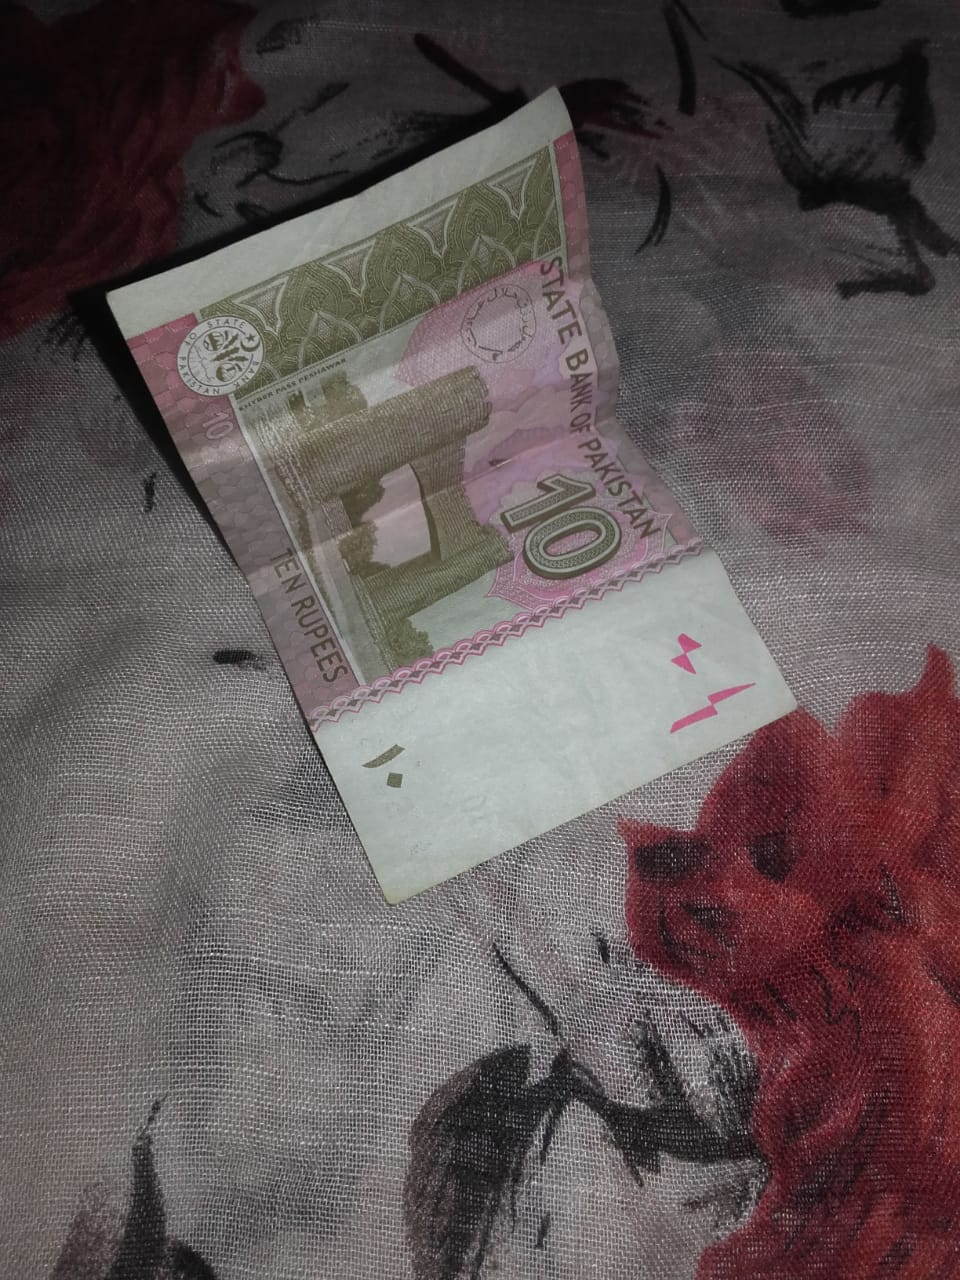10 rupee: (99, 74, 801, 896)
